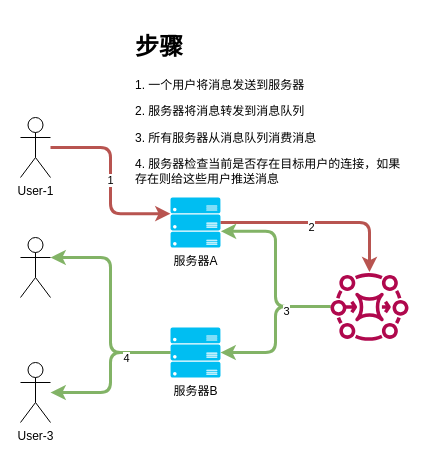
The diagram is 427 pixels wide and 460 high, and some of its shapes have lost their labels. The centre of each missing label's shape, as x and y in pixels:
User-2: the point at 35,267
消息队列: the point at 369,306
